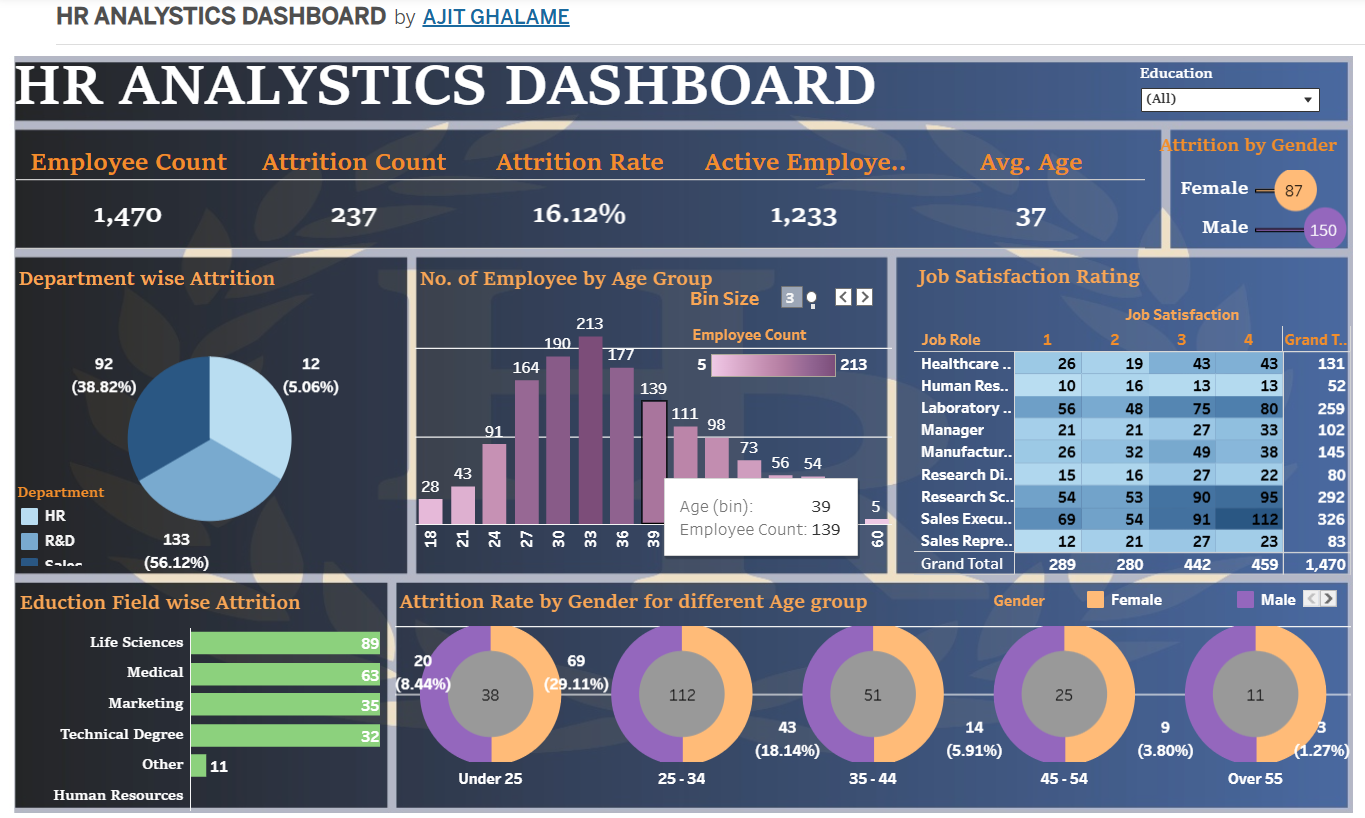

The dashboard page shown, as its layout file describes it:
{"tool":"tableau","page":{"name":"HR ANALYSTICS DASHBOARD","canvas":[1000,1000],"units":"permille","ordinal":0},"visuals":[{"type":"image","param":"E:/DATA ANALYST/Tableau-20250829T065059Z-1-001/PROJECT/HR background.png","box":[5.1,10,989.9,980]},{"type":"text","box":[65.8,23.7,587.3,76.1]},{"type":"filter","title":"Department wise Attrition","param":"[federated.0s72qvk10t5jzr1bzf64y00eyooy].[none:Education:nk]","box":[629.1,26.2,101.3,62.3]},{"type":"worksheet","title":"KPI","mark":"Automatic","box":[69.6,103.5,741.8,157.1]},{"type":"worksheet","title":"Attrition by Gender","mark":"Automatic","rows":["Gender"],"cols":["Calculation_506655011793530880","Calculation_506655011793530880"],"box":[817.1,109.7,117.7,152.1]},{"type":"worksheet","title":"No. of Employee by Age Group","mark":"Automatic","rows":["Employee Count"],"cols":["Age (bin)"],"box":[326.6,271.8,308.9,405.2]},{"type":"worksheet","title":"Job Satisfaction Rating ","mark":"Square","rows":["Job Role"],"cols":["Job Satisfaction"],"box":[639.9,274.3,294.3,404]},{"type":"worksheet","title":"Department wise Attrition","mark":"Pie","box":[67.1,275.6,252.5,400.2]},{"type":"parameter","param":"[Parameters].[Parameter 1]","box":[526.6,276.8,105.1,54.9]},{"type":"legend","title":"No. of Employee by Age Group","param":"[federated.0s72qvk10t5jzr1bzf64y00eyooy].[sum:Employee Count:qk]","box":[527.2,327.9,101.3,88.5]},{"type":"legend","title":"Department wise Attrition","param":"[federated.0s72qvk10t5jzr1bzf64y00eyooy].[none:Department:nk]","box":[69,566.1,72.2,106]},{"type":"worksheet","title":"Attrition Rate by Gender for different Age group","mark":"Pie","rows":["Calculation_506655011889201162","Calculation_506655011889201162"],"cols":["CF_age band"],"box":[313.3,687,616.5,284.3]},{"type":"worksheet","title":"Eduction Field wise Attrition","mark":"Automatic","rows":["Education Field"],"cols":["Calculation_506655011793530880"],"box":[65.8,688.3,241.1,290.5]},{"type":"legend","title":"Attrition Rate by Gender for different Age group","param":"[federated.0s72qvk10t5jzr1bzf64y00eyooy].[none:Gender:nk]","box":[738.6,694.5,193.7,51.1]}]}

Visuals, with their boxes on the dashboard's canvas, which has no fixed pixel size, in thousandths of its width and height (x1, y1, x2, y2). These are canvas units, not pixel positions in the 1365x818 screenshot, which may show the page scaled, cropped or inside an application window:
image: {"left": 5, "top": 10, "right": 995, "bottom": 990}
text: {"left": 66, "top": 24, "right": 653, "bottom": 100}
"Department wise Attrition" filter: {"left": 629, "top": 26, "right": 730, "bottom": 88}
"KPI" worksheet: {"left": 70, "top": 104, "right": 811, "bottom": 261}
"Attrition by Gender" worksheet: {"left": 817, "top": 110, "right": 935, "bottom": 262}
"No. of Employee by Age Group" worksheet: {"left": 327, "top": 272, "right": 636, "bottom": 677}
"Job Satisfaction Rating " worksheet (Square marks): {"left": 640, "top": 274, "right": 934, "bottom": 678}
"Department wise Attrition" worksheet (Pie marks): {"left": 67, "top": 276, "right": 320, "bottom": 676}
parameter: {"left": 527, "top": 277, "right": 632, "bottom": 332}
"No. of Employee by Age Group" legend: {"left": 527, "top": 328, "right": 628, "bottom": 416}
"Department wise Attrition" legend: {"left": 69, "top": 566, "right": 141, "bottom": 672}
"Attrition Rate by Gender for different Age group" worksheet (Pie marks): {"left": 313, "top": 687, "right": 930, "bottom": 971}
"Eduction Field wise Attrition" worksheet: {"left": 66, "top": 688, "right": 307, "bottom": 979}
"Attrition Rate by Gender for different Age group" legend: {"left": 739, "top": 694, "right": 932, "bottom": 746}
